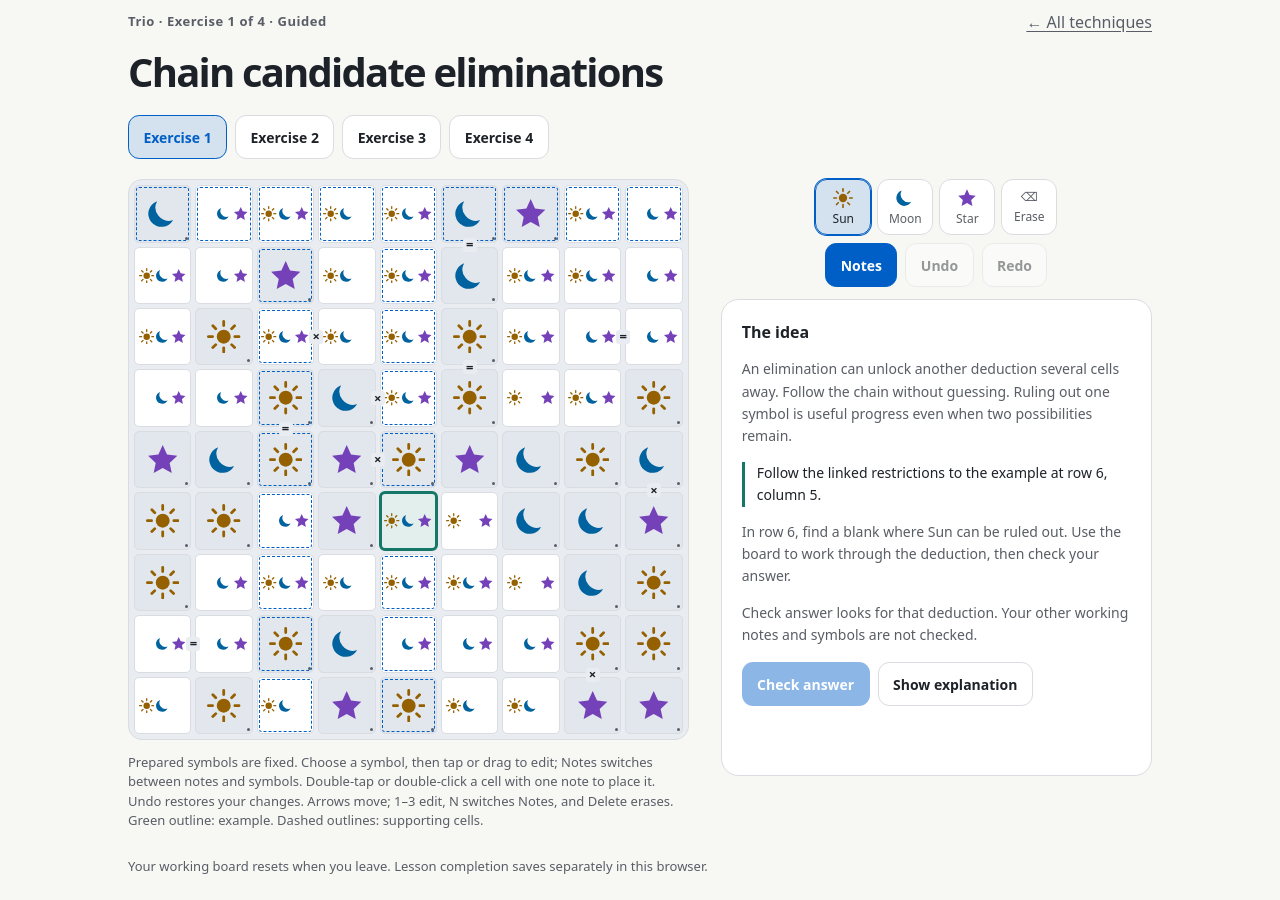
Test: accepts a placed symbol when the original puzzle proves that further deduction
This screenshot has width=1280, height=900.
Click the button "Notes" at (861, 265), box [825,243,897,287]
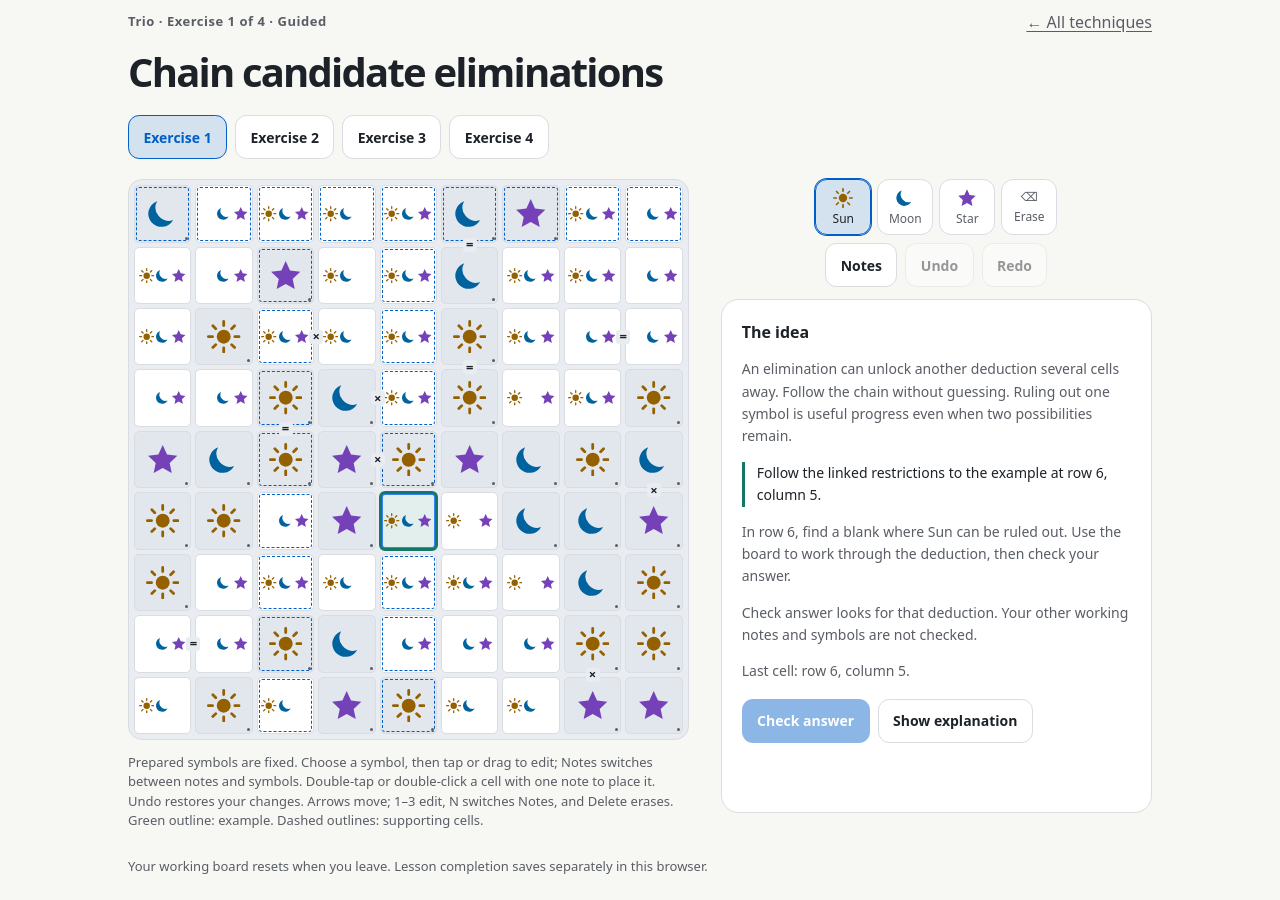
Press 3 in the cell named "Row 6, column 5, Empty, notes Sun, Moon, Star, hint target", box [380,492,437,550]
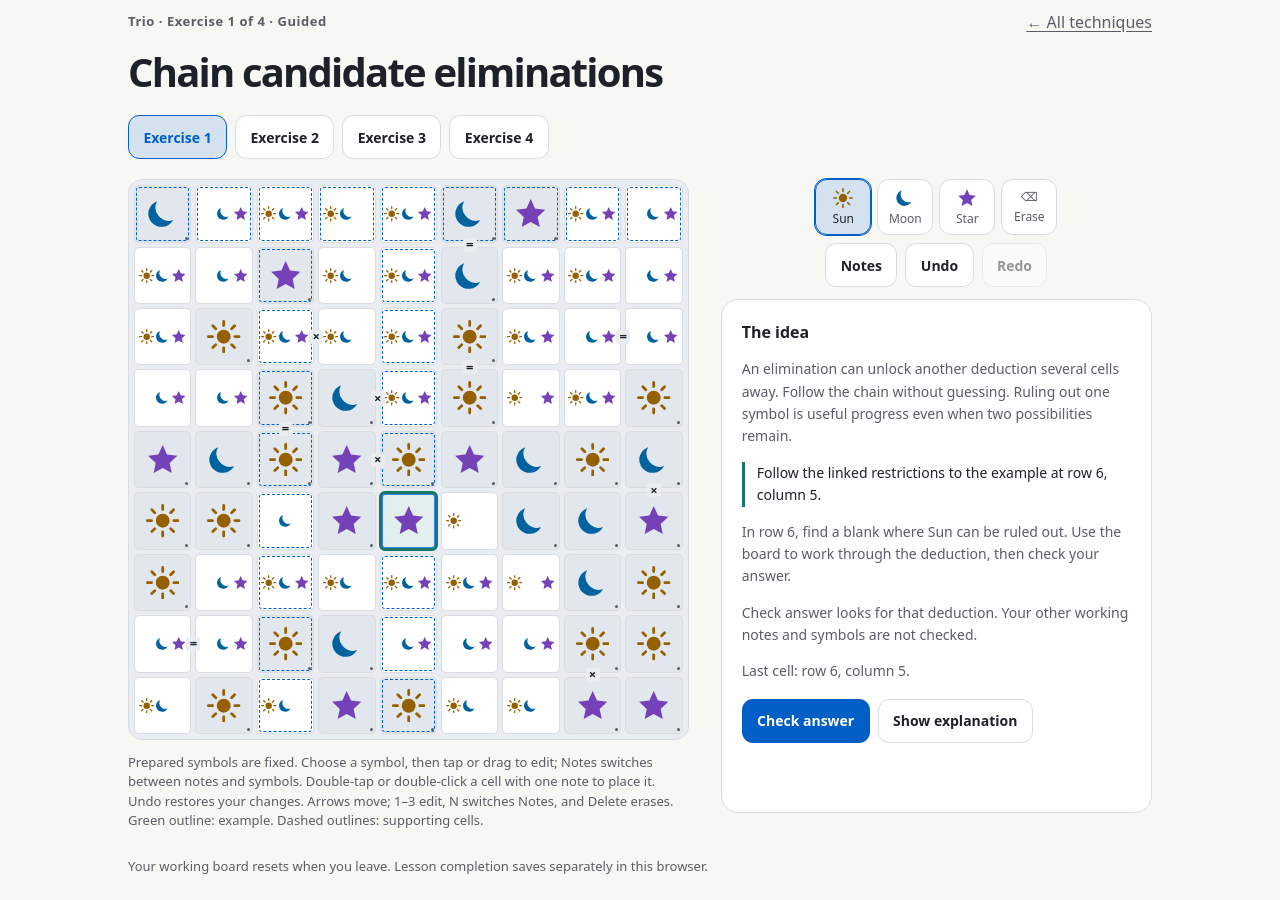
Click the button "Check answer" at (806, 721), box [742,699,870,743]
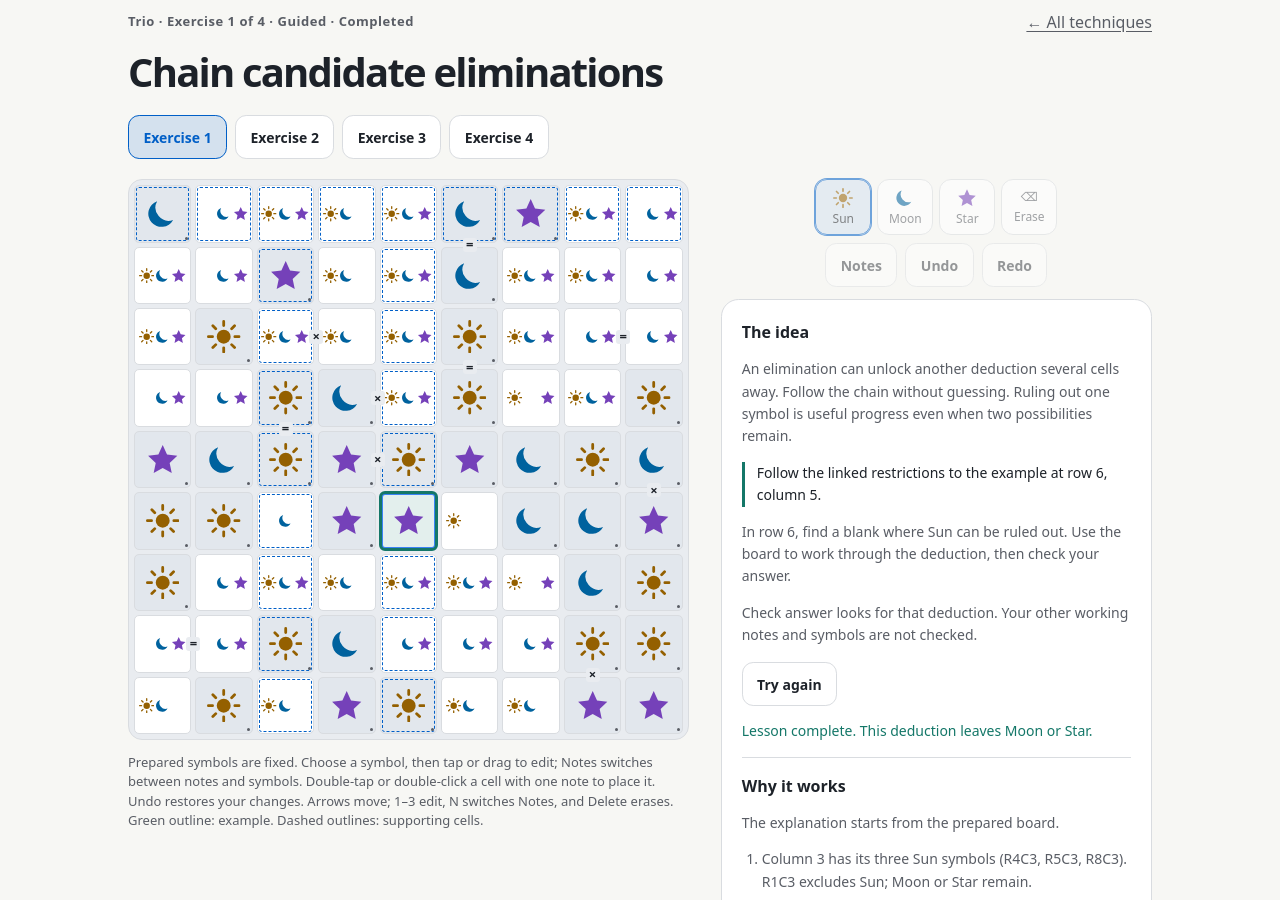
Result: the message with class "lesson-feedback" shows "Lesson complete" at [742,722,1093,740]
